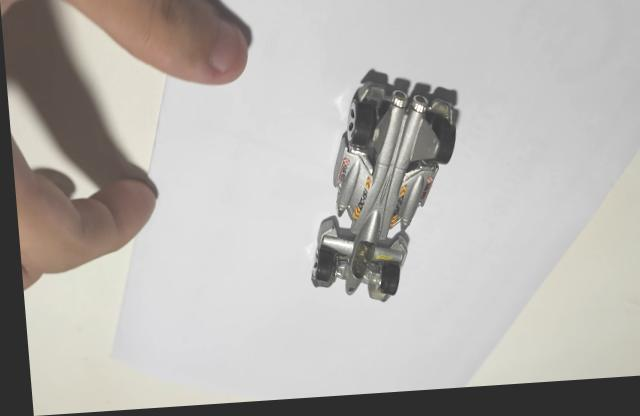05_DC121: (306, 83, 458, 306)
